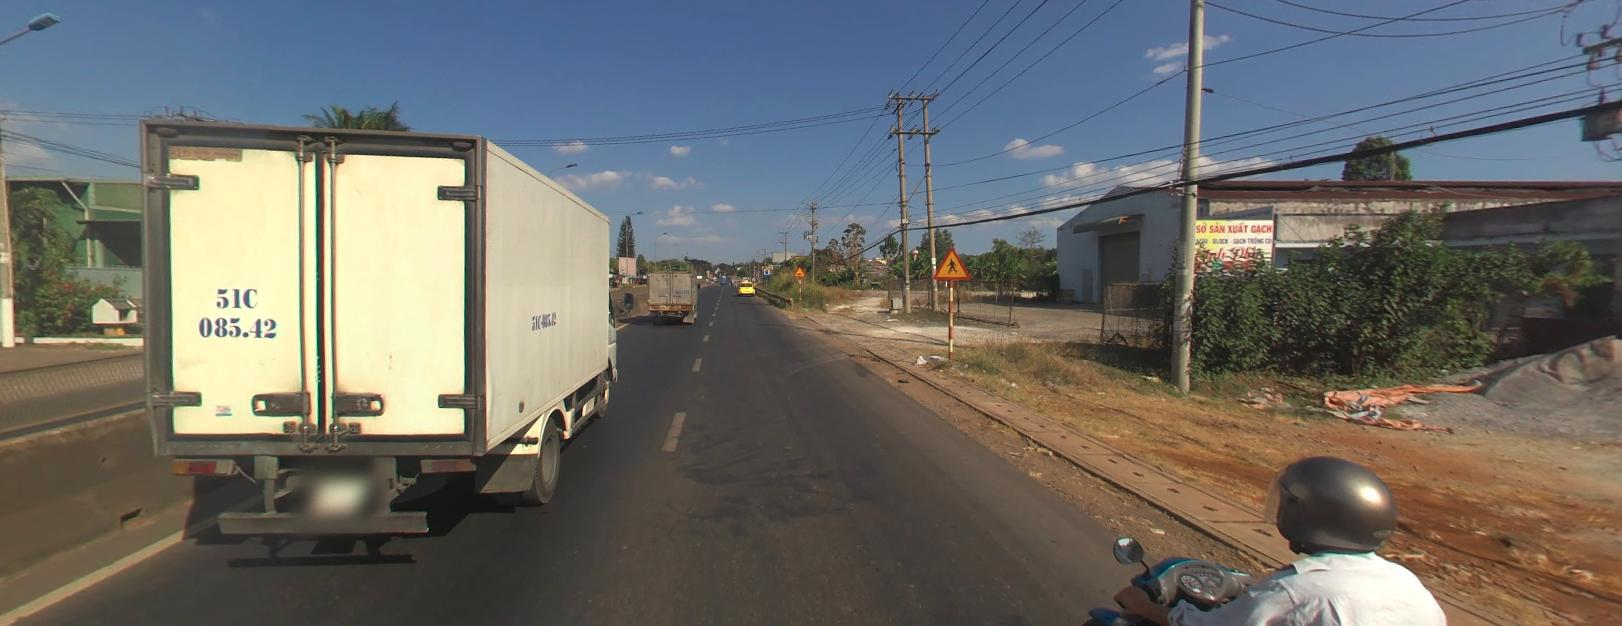Nguy hiem: (932, 245, 968, 278), (793, 265, 805, 275)
